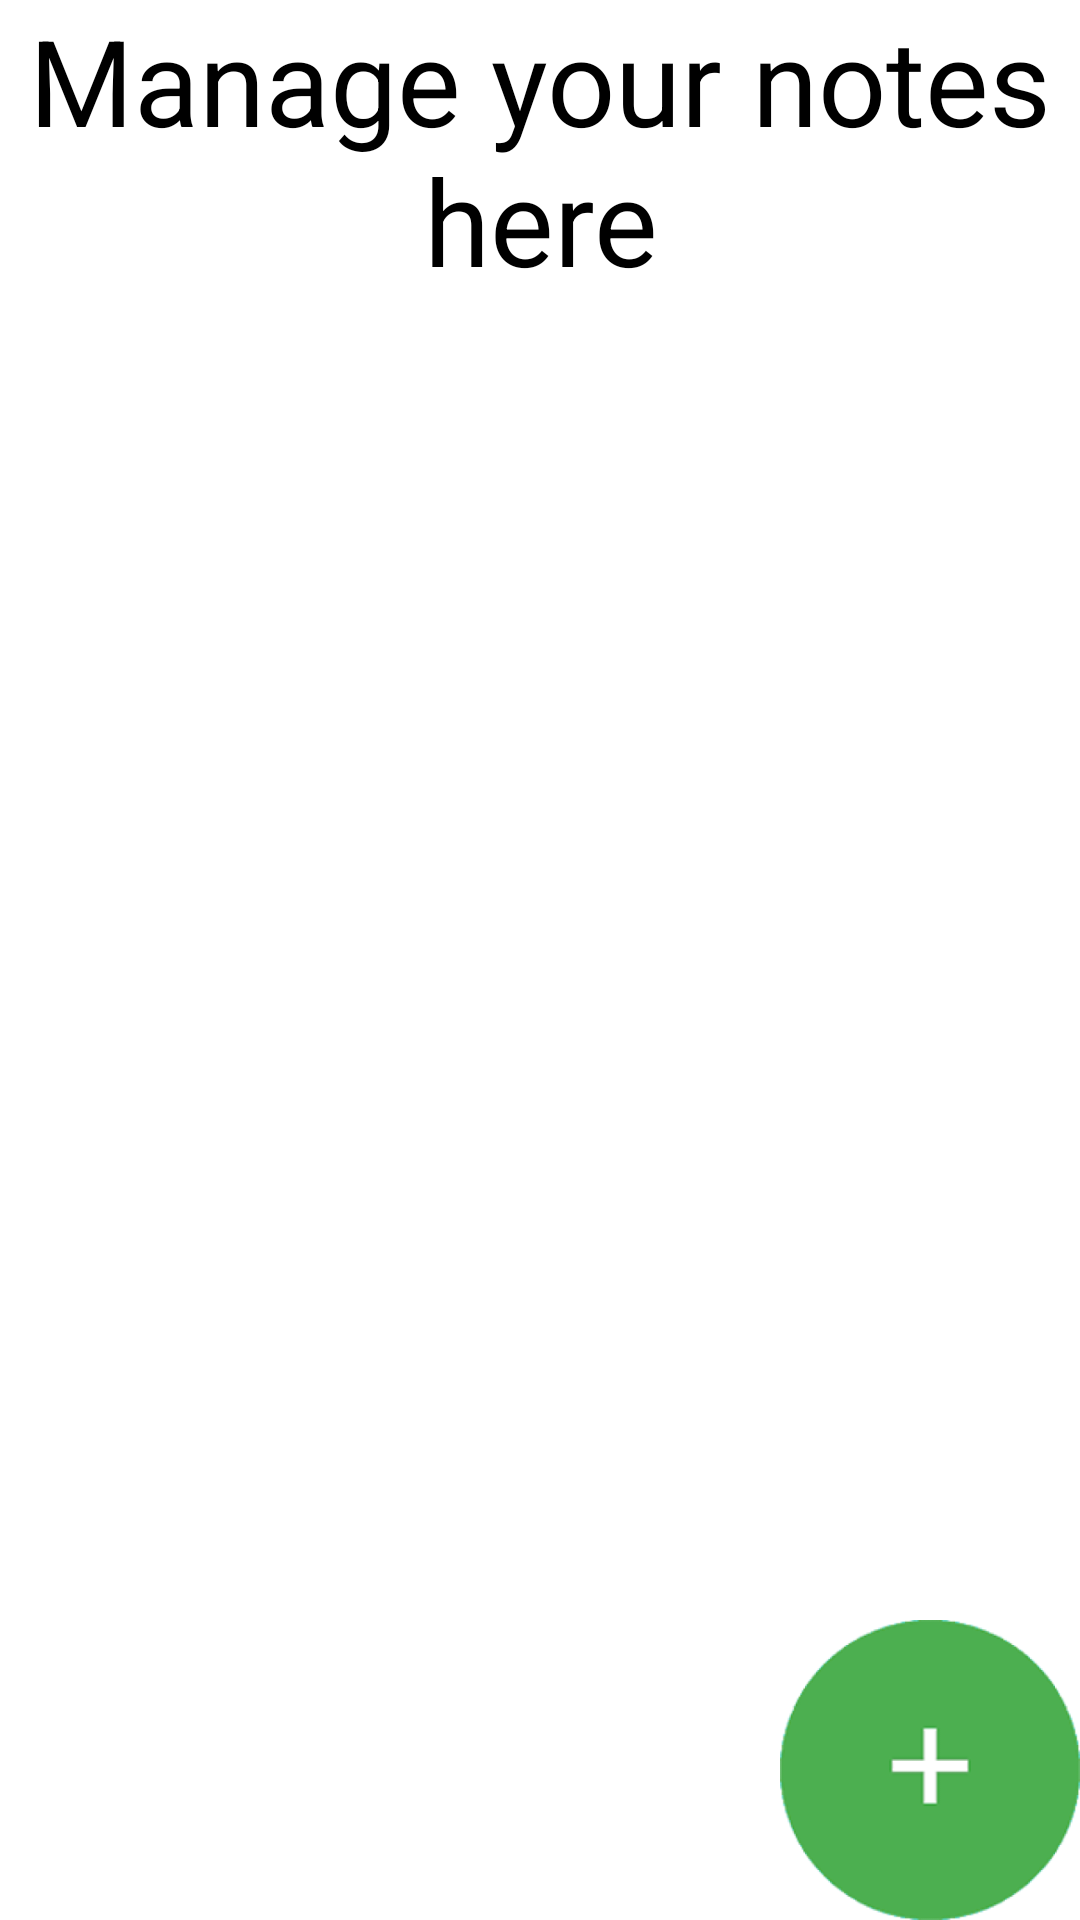

Locate icon controls on the screen. Image size 1080x1920, boxes as (x1=x1, y1=y1, x2=x2, y2=y2).
plus sign: (x1=780, y1=1620, x2=1080, y2=1920)
